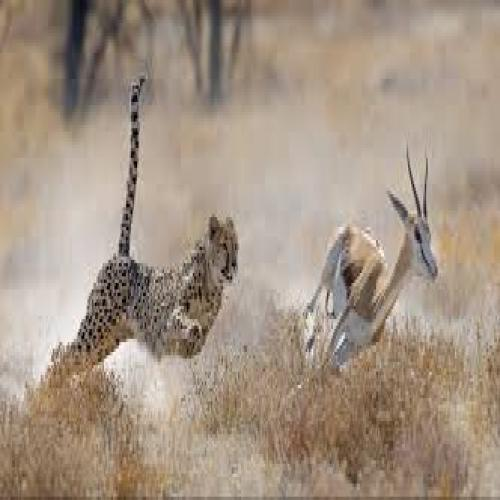cheetah-endangered: (73, 75, 237, 377)
